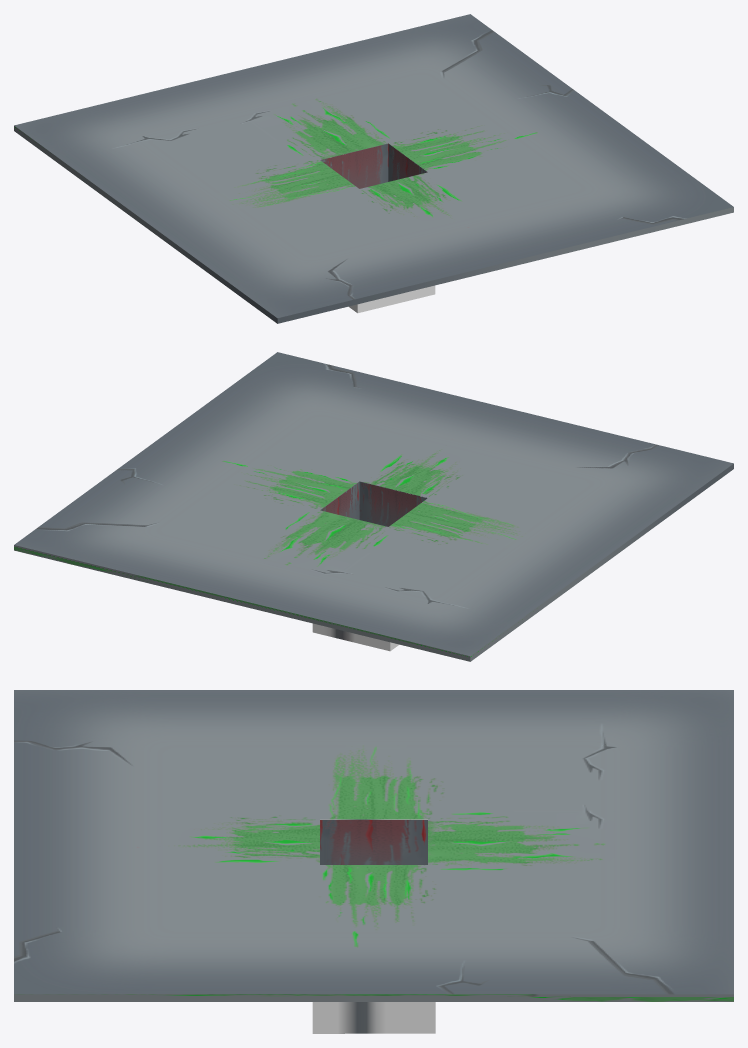
Rendered from 9x9 1 rupa.fbx.
3 renders of one model, top to bottom at view 1: azimuth 30°, elevation 25°; view 2: azimuth 150°, elevation 25°; view 3: azimuth 270°, elevation 25°, orthographic. The views are drawn at different scales.
Parts seen in each view (by area): view 1: Cube.004, Cube_008.002; view 2: Cube.004, Cube_008.002; view 3: Cube.004, Cube_008.002.
Part boxes in pixels (x1,y1,x2,y2): Cube.004: [14, 14, 733, 323]; Cube_008.002: [320, 143, 435, 313]; Cube.004: [14, 352, 733, 661]; Cube_008.002: [312, 481, 427, 651]; Cube.004: [14, 690, 733, 1001]; Cube_008.002: [312, 819, 435, 1033].
Bounding box in the file's own units: 900 × 228 × 900.
2 materials, 2 textured.
